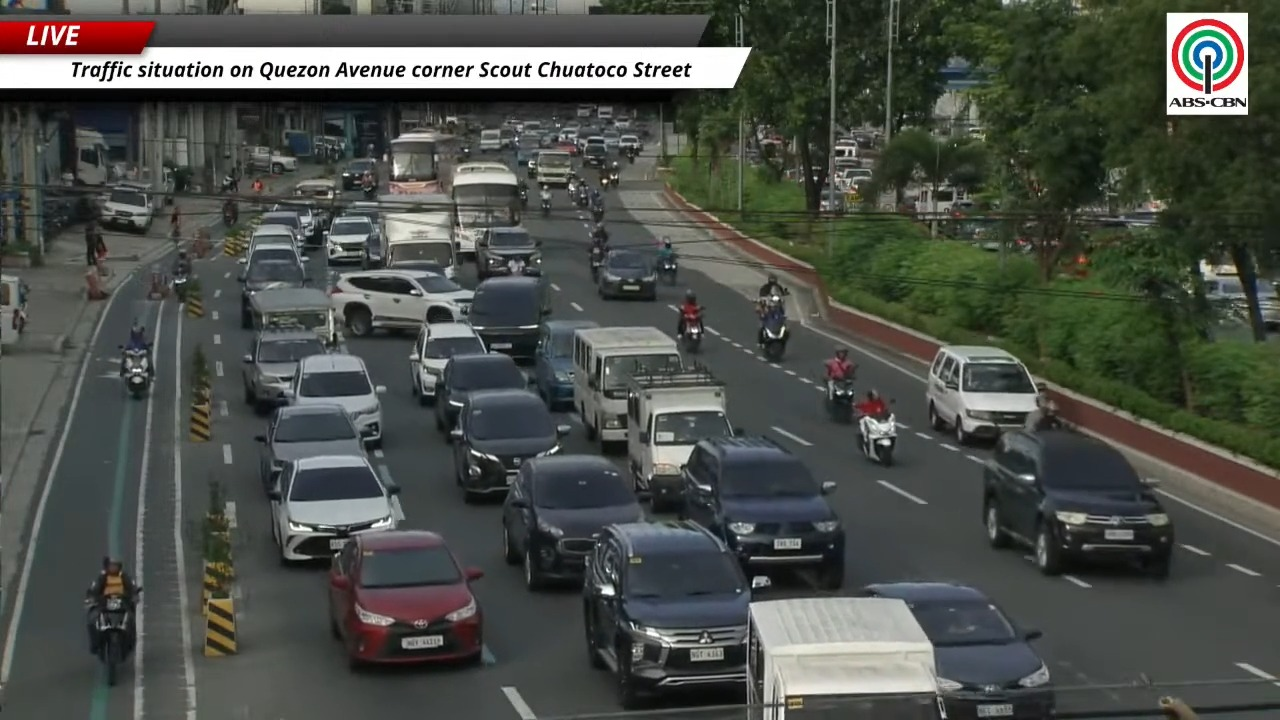bus: (450, 163, 521, 258), (387, 132, 456, 194)
car: (582, 521, 767, 709), (983, 430, 1174, 578), (858, 582, 1055, 719), (679, 436, 845, 589), (328, 530, 483, 665), (501, 455, 643, 590), (268, 455, 403, 562), (449, 390, 569, 501), (926, 345, 1038, 445), (330, 269, 474, 336), (286, 353, 385, 447), (255, 405, 364, 490), (434, 353, 527, 438), (242, 329, 326, 411), (467, 276, 549, 359), (409, 323, 486, 404), (238, 245, 307, 328), (534, 320, 598, 409), (476, 226, 540, 280), (598, 250, 656, 300), (99, 184, 154, 232), (263, 202, 319, 244), (325, 215, 373, 263), (1204, 275, 1248, 321), (238, 235, 307, 264), (260, 207, 309, 246), (246, 225, 301, 255), (341, 159, 376, 190), (387, 259, 446, 275), (819, 187, 846, 214), (582, 142, 607, 168), (524, 144, 541, 178), (551, 140, 579, 156), (619, 134, 642, 152), (602, 131, 619, 152), (538, 133, 558, 148)
motorcycle: (95, 588, 140, 685), (859, 412, 896, 466), (122, 348, 150, 398), (761, 314, 788, 362), (827, 378, 855, 424), (680, 313, 703, 353), (657, 255, 677, 285), (589, 245, 603, 282), (172, 272, 189, 302), (222, 203, 237, 226), (507, 258, 525, 275), (220, 174, 237, 192), (576, 186, 589, 207), (591, 205, 605, 224), (567, 179, 577, 202), (362, 183, 376, 199), (541, 198, 551, 218), (625, 147, 637, 163), (608, 170, 619, 186), (519, 188, 528, 207), (600, 175, 611, 190), (460, 147, 470, 160)
truck: (747, 597, 946, 719), (626, 364, 736, 511), (573, 327, 682, 450), (383, 212, 456, 278), (75, 127, 111, 185), (245, 146, 297, 174), (534, 150, 574, 186)
